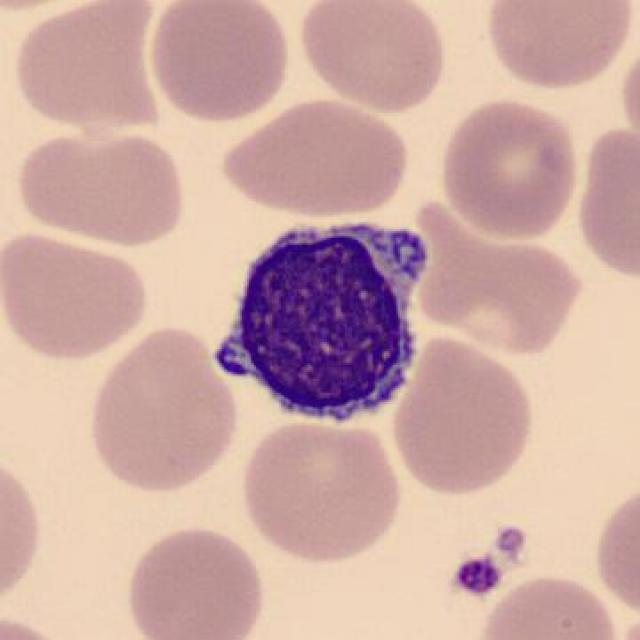Platelets: (446, 554, 502, 598)
RBC: (82, 319, 245, 496), (237, 414, 407, 568), (389, 331, 539, 499), (215, 94, 413, 220), (436, 94, 580, 244), (9, 0, 169, 134), (16, 128, 188, 248), (0, 229, 153, 363), (146, 2, 293, 125), (119, 520, 269, 640), (295, 1, 452, 114), (480, 0, 638, 95), (574, 120, 638, 293), (471, 570, 624, 638), (588, 478, 638, 631), (0, 612, 75, 640)
